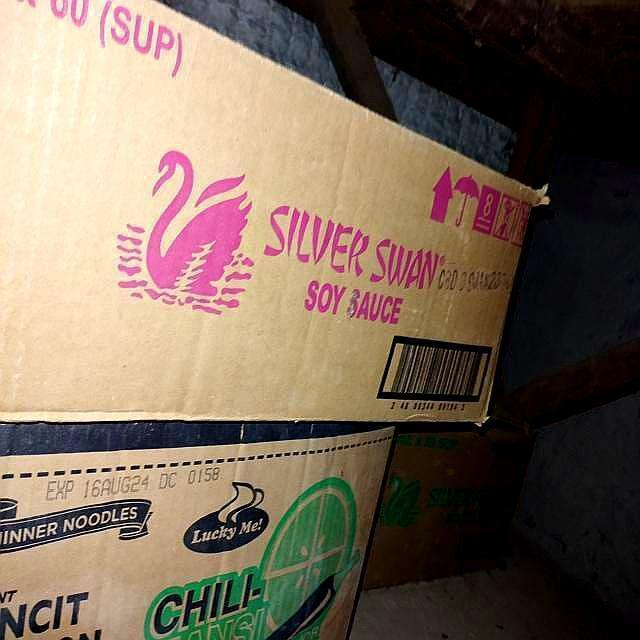Biodegradable: (1, 1, 535, 640)
